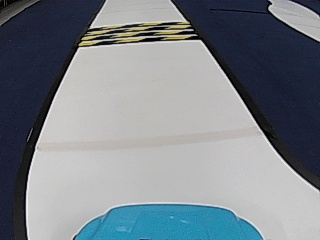bump: (94, 20, 186, 47)
